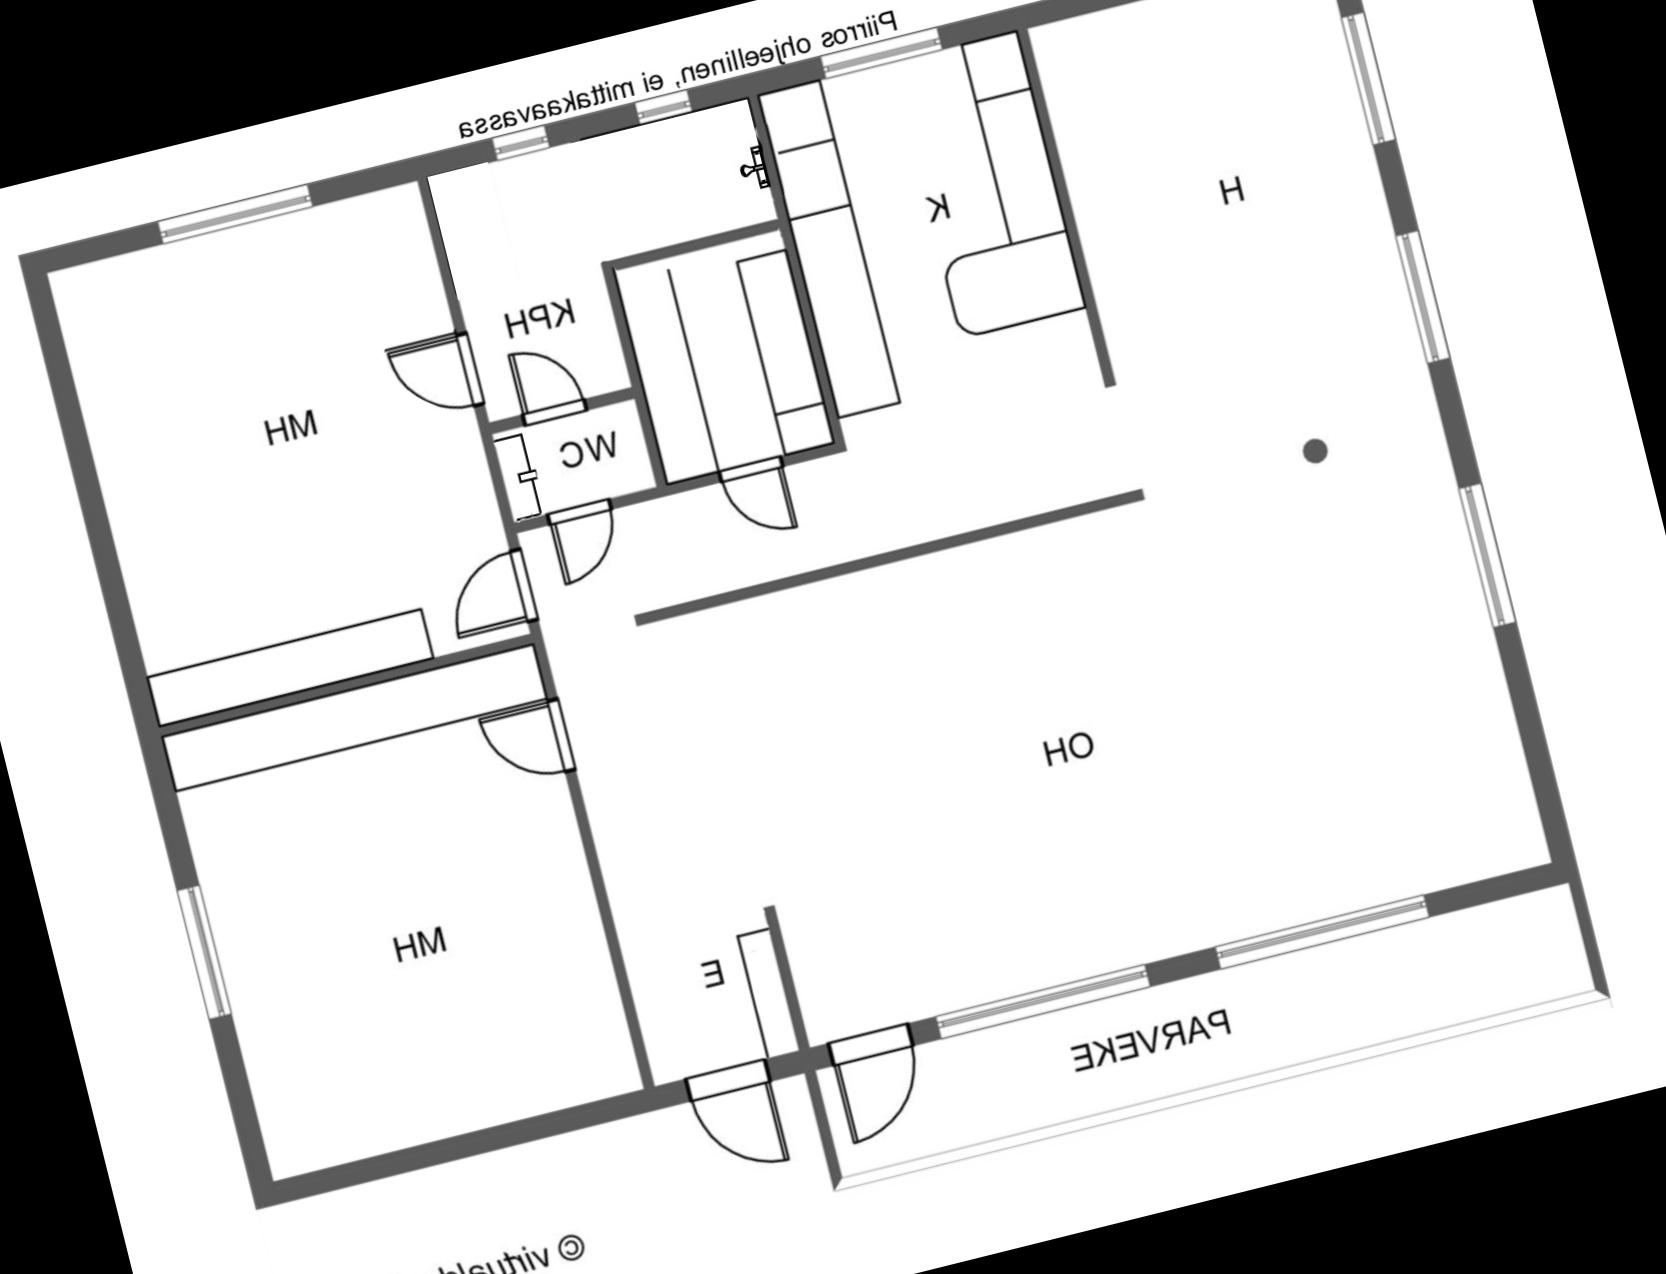door: (816, 1006, 945, 1151), (678, 1051, 795, 1188), (434, 543, 545, 645), (380, 323, 492, 423), (475, 689, 582, 794), (538, 488, 636, 594), (712, 450, 804, 550), (504, 336, 595, 434)
window: (922, 949, 1174, 1056), (1203, 881, 1453, 986), (1443, 467, 1534, 649), (145, 166, 325, 253), (162, 859, 246, 1038), (1329, 0, 1409, 158), (1384, 219, 1461, 381), (818, 25, 954, 87), (471, 112, 571, 175), (613, 76, 707, 135)
